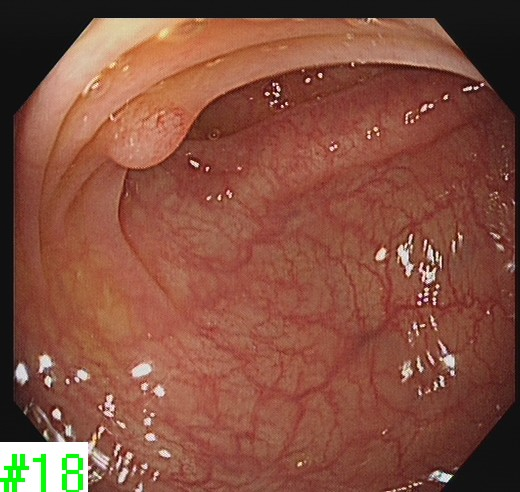adenoma: (98, 96, 205, 172)
